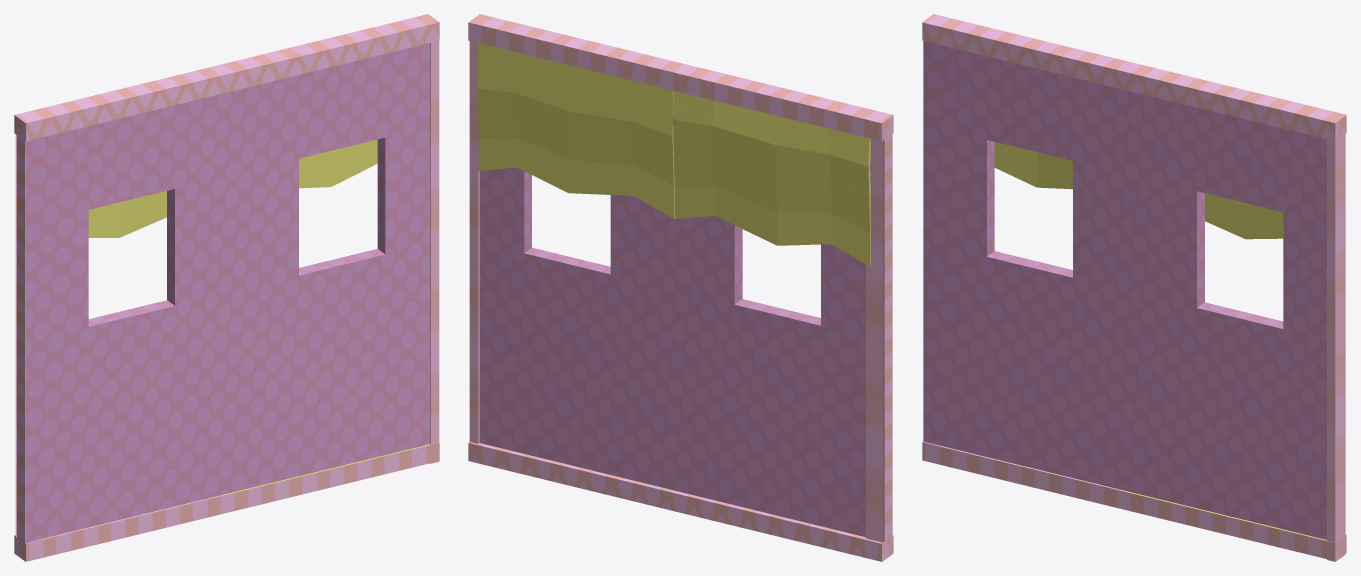
File: wall.fbx
3 renders of one model, left to right at view 1: azimuth 30°, elevation 25°; view 2: azimuth 150°, elevation 25°; view 3: azimuth 330°, elevation 25°, orthographic.
Parts seen in each view (by area): view 1: Wall; view 2: Wall; view 3: Wall.
Boxes of the visible parts, box(x1,y1,x2,y2) form: Wall: box(14, 14, 439, 561); Wall: box(468, 14, 893, 561); Wall: box(922, 14, 1346, 561).
Bounding box in the file's own units: 4763 × 4834 × 255.
